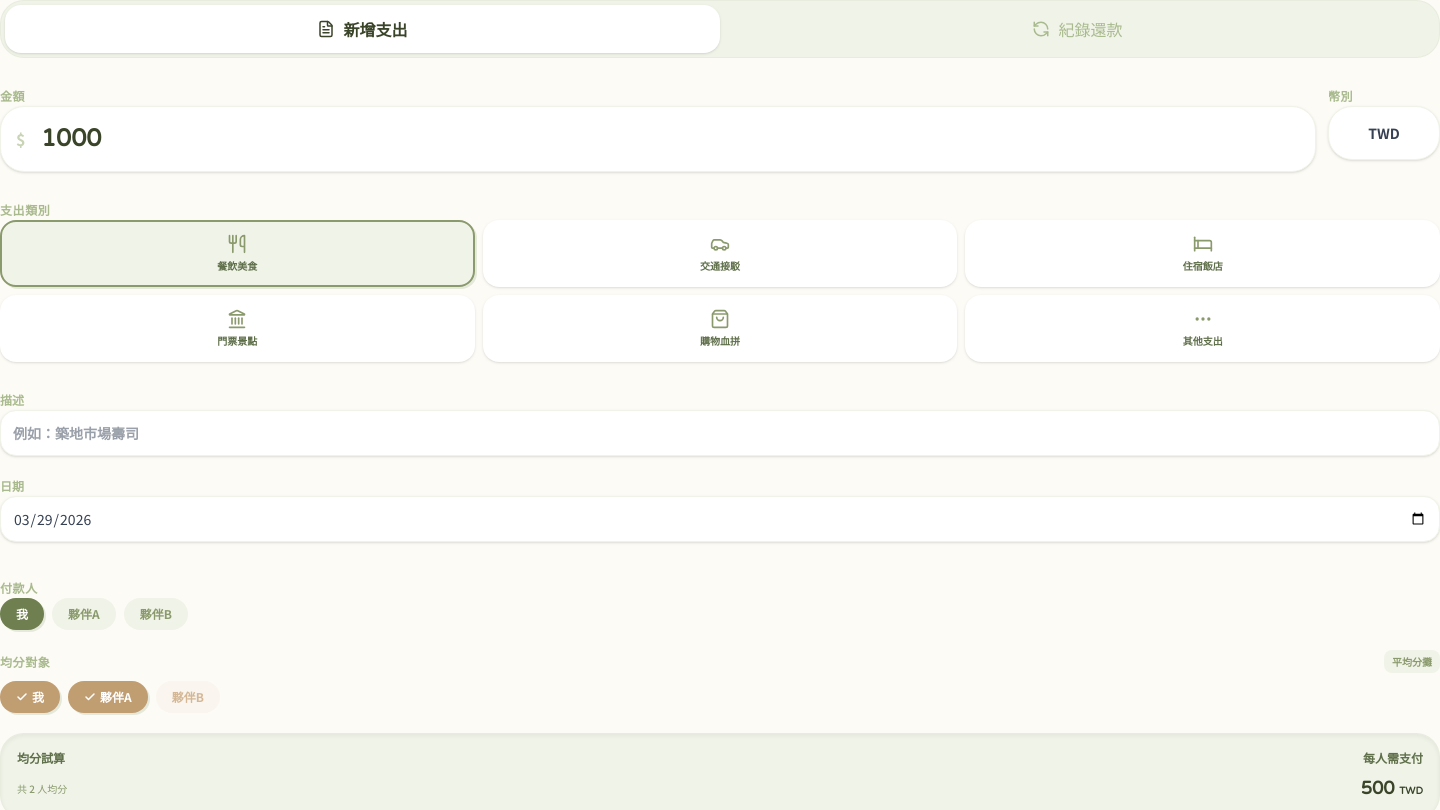
Scenario: ExpenseForm.vue › 開啟自訂金額模式應顯示獨立輸入框
Click the button "平均分攤".
click(1412, 662)  # box top-left (1384, 650), bottom-right (1439, 673)
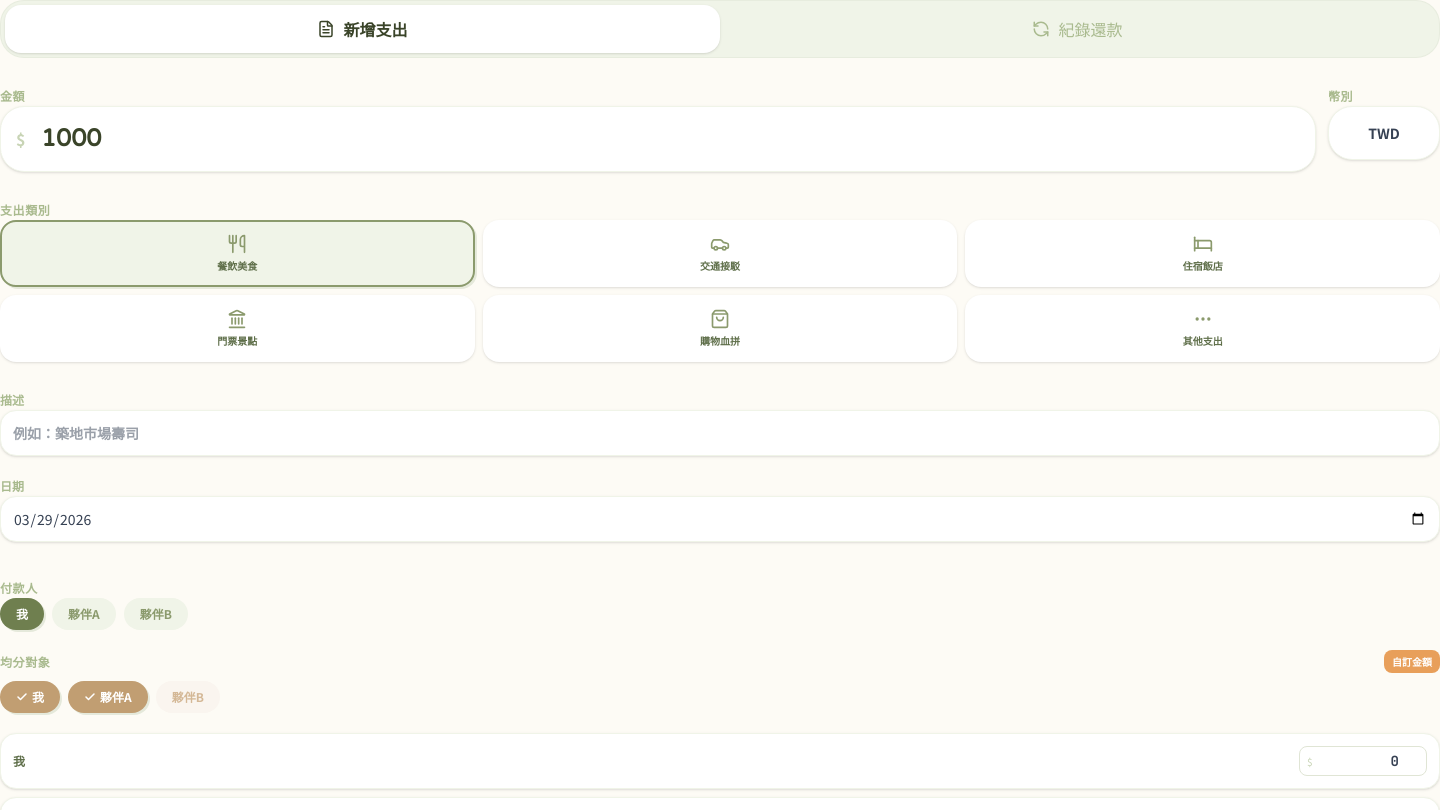
Expected: the text "自訂金額" is shown, top-left (1384, 650), bottom-right (1439, 673)
Expected: the number of number fields is 3
